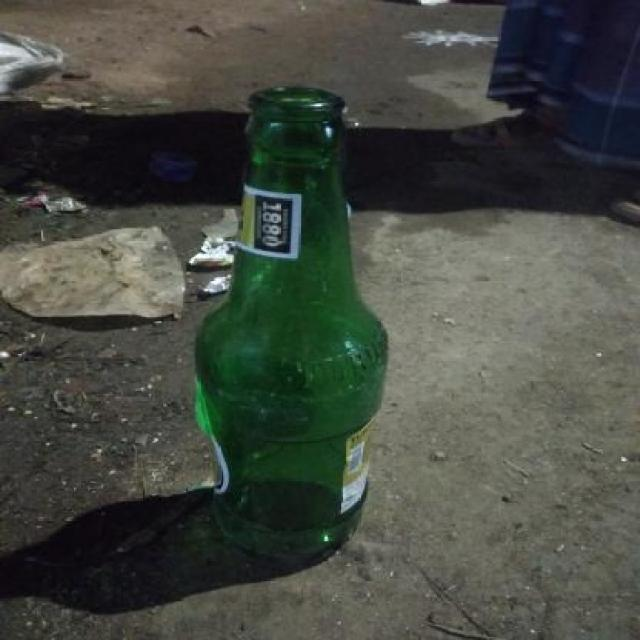garbage: (140, 46, 551, 574), (125, 109, 504, 540)
